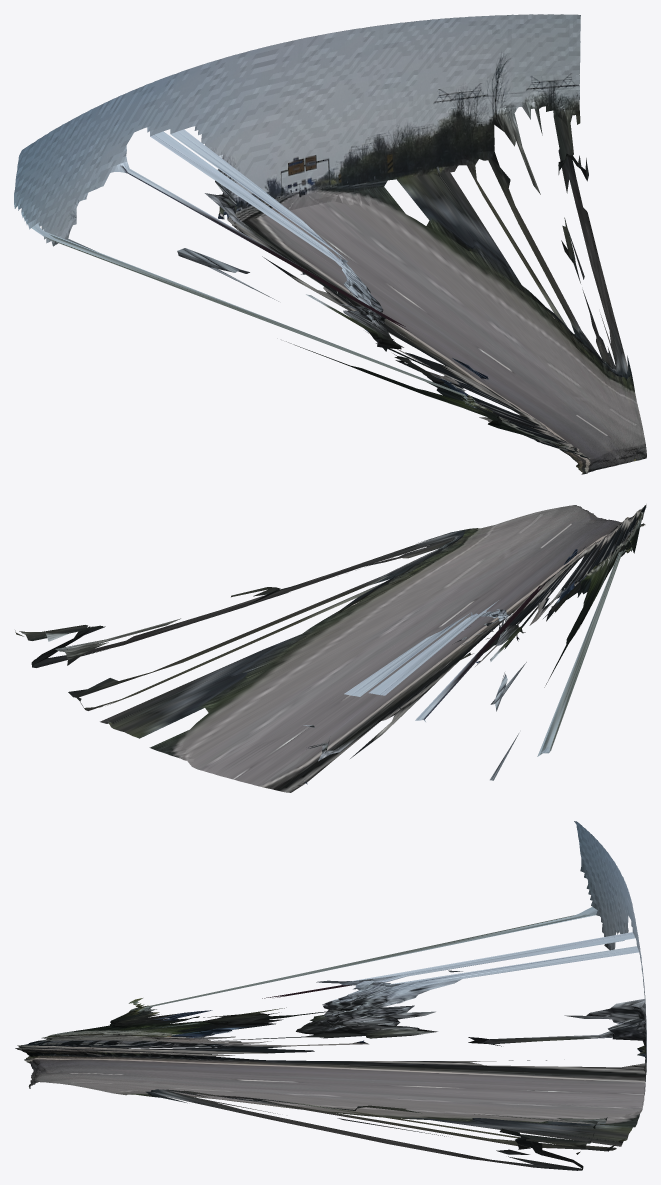
3 renders of one model, top to bottom at view 1: azimuth 30°, elevation 25°; view 2: azimuth 150°, elevation 25°; view 3: azimuth 270°, elevation 25°, orthographic. The views are drawn at different scales.
Parts seen in each view (by area): view 1: defaultobject; view 2: defaultobject; view 3: defaultobject.
Part boxes in pixels (box(x1,y1,x2,y2)): defaultobject: box(14, 14, 646, 474); defaultobject: box(15, 504, 646, 792); defaultobject: box(15, 821, 646, 1170).
Size of the model in its own units: 41 by 12.2 by 45.42.
Materials: 1 (1 with a texture image).
